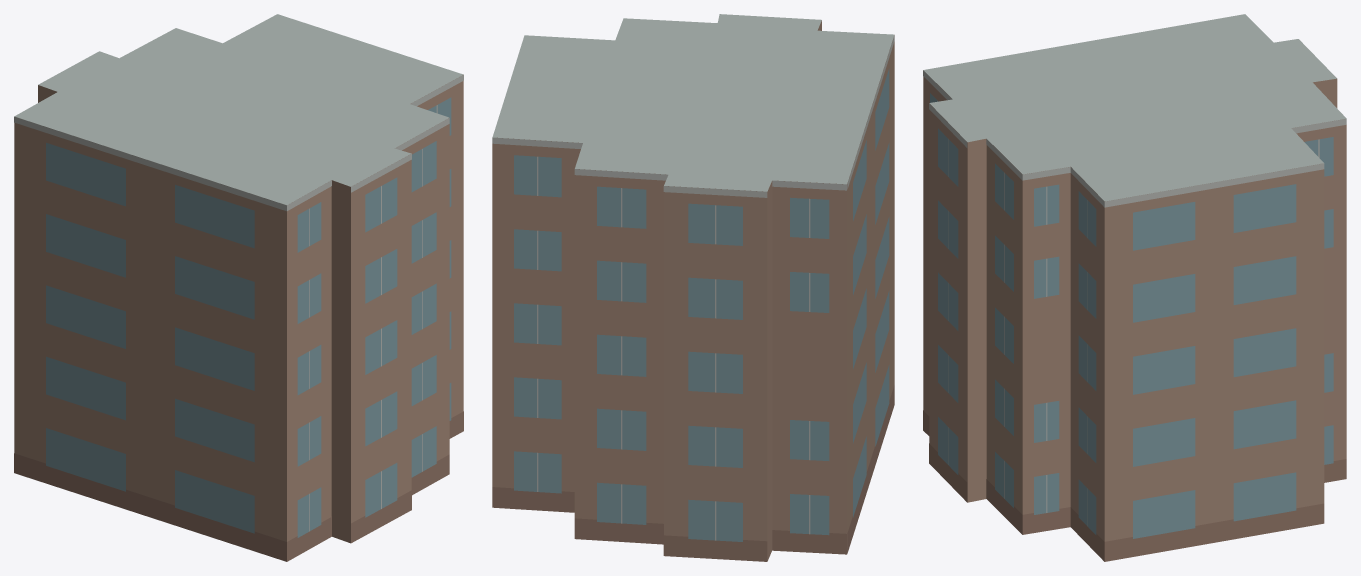
The model's file is survey-upis-32943007.glb.
The picture shows the model from 3 angles, left to right: view 1: azimuth 30°, elevation 25°; view 2: azimuth 150°, elevation 25°; view 3: azimuth 270°, elevation 25°; orthographic projection. The views are drawn at different scales.
Visible parts, largest first — view 1: survey-upis-32943007.tmp; view 2: survey-upis-32943007.tmp; view 3: survey-upis-32943007.tmp.
Boxes of the visible parts, box(x1,y1,x2,y2) form: survey-upis-32943007.tmp: box(14, 14, 463, 561); survey-upis-32943007.tmp: box(492, 14, 894, 561); survey-upis-32943007.tmp: box(923, 14, 1346, 561).
Size of the model in its own units: 16.08 by 14.4 by 15.35.
